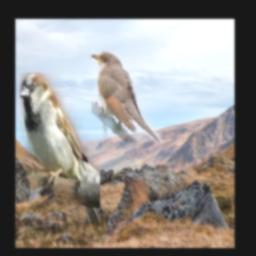Cuckoo: (92, 51, 162, 142)
Sparrow: (20, 73, 100, 223)
